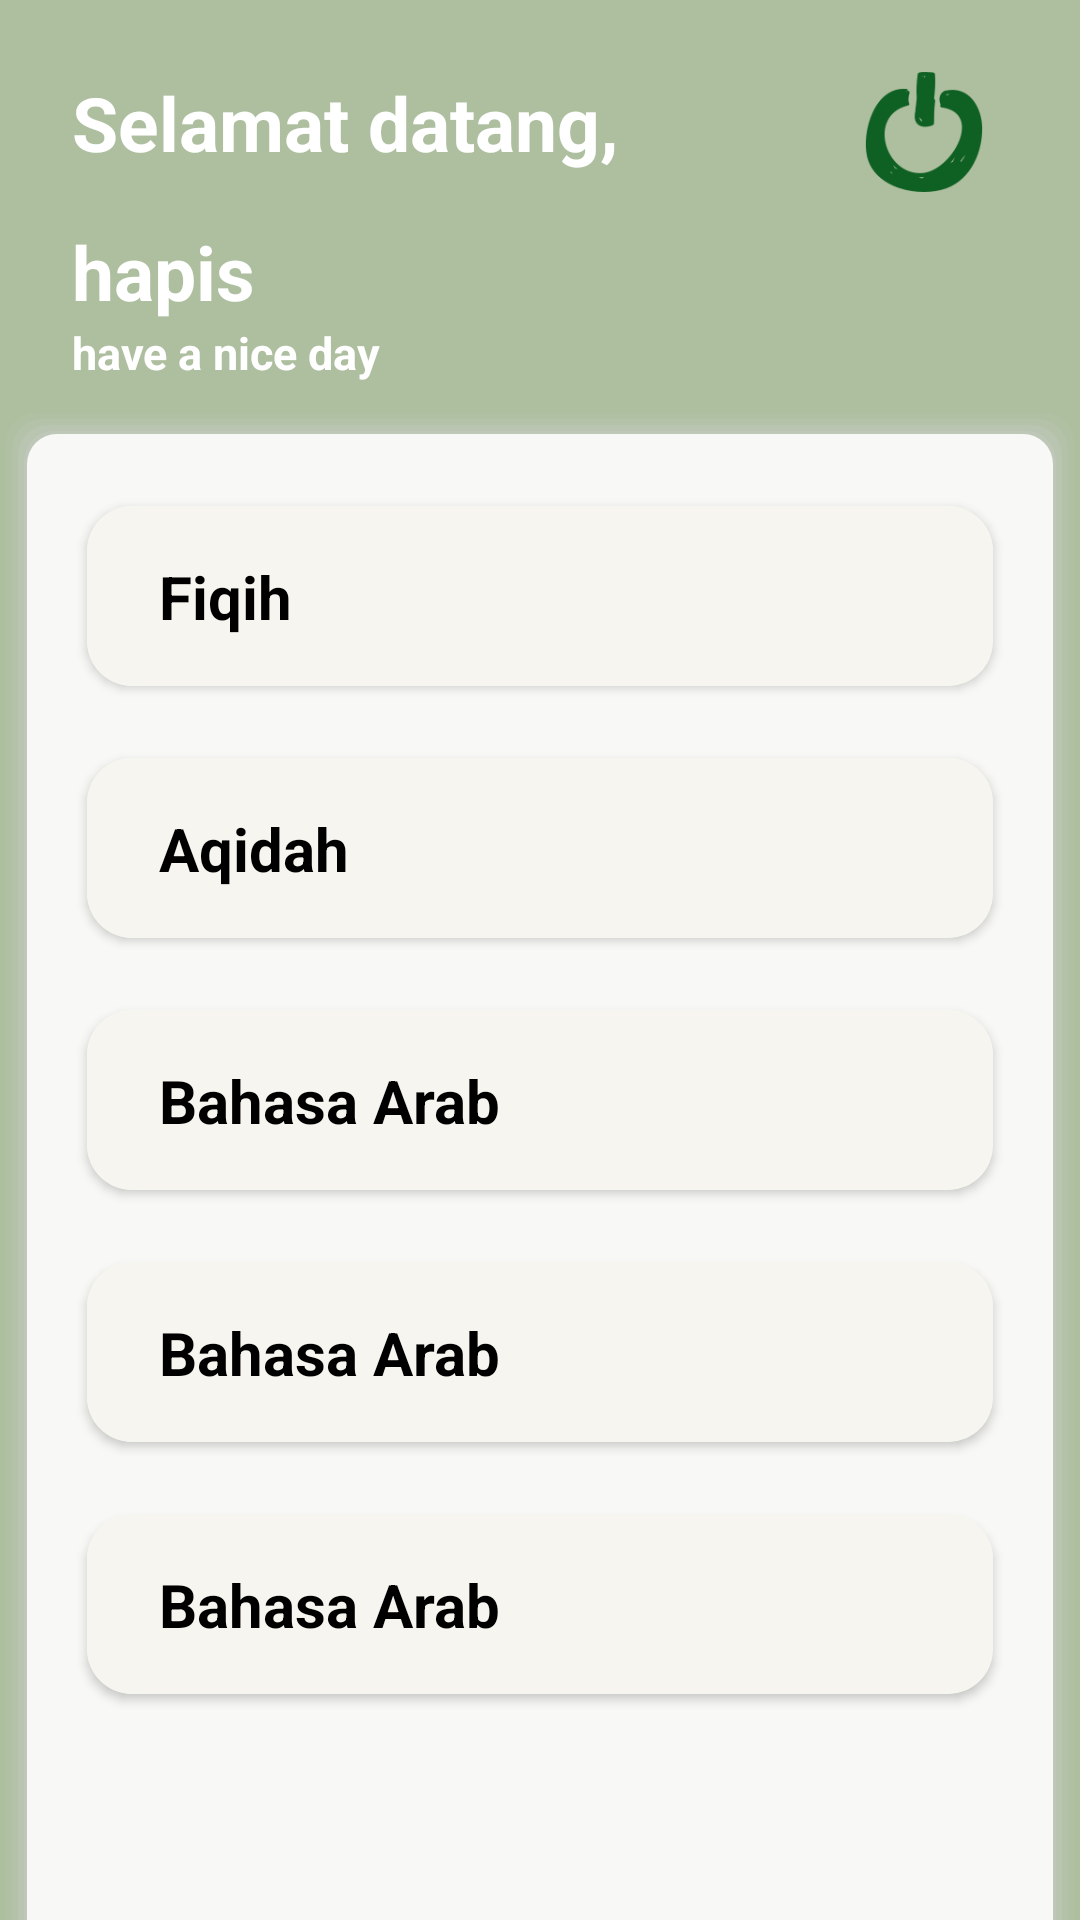

Icon click points for this 1080*1920 phone screenshot, format (x,y):
shutdown: (924,132)
